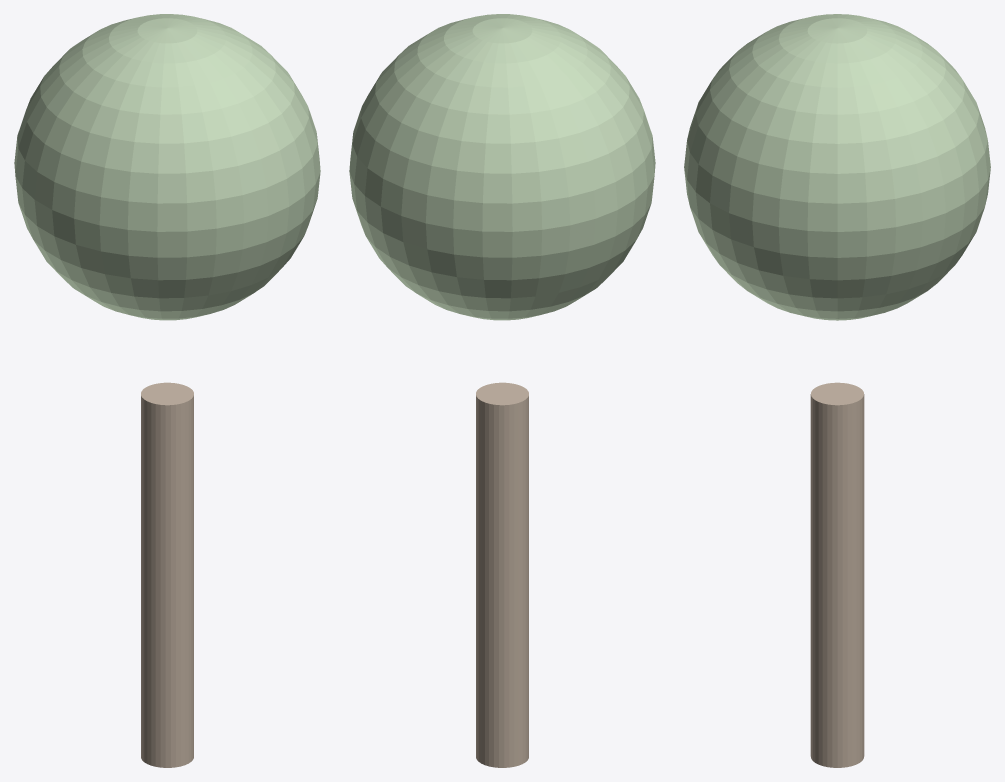
File: MOD_TREE_EUCALYPTUS_STANDARD_001_LOD_MAP.glb
3 renders of one model, left to right at view 1: azimuth 30°, elevation 25°; view 2: azimuth 150°, elevation 25°; view 3: azimuth 270°, elevation 25°, orthographic.
Visible parts, largest first — view 1: MOD_TREE_EUCALYPTUS_STANDARD_001_MAP_CANOPY, MOD_TREE_EUCALYPTUS_STANDARD_001_MAP_TRUNK; view 2: MOD_TREE_EUCALYPTUS_STANDARD_001_MAP_CANOPY, MOD_TREE_EUCALYPTUS_STANDARD_001_MAP_TRUNK; view 3: MOD_TREE_EUCALYPTUS_STANDARD_001_MAP_CANOPY, MOD_TREE_EUCALYPTUS_STANDARD_001_MAP_TRUNK.
Part boxes in pixels (x1=…): MOD_TREE_EUCALYPTUS_STANDARD_001_MAP_CANOPY: x1=14, y1=14, x2=320, y2=320; MOD_TREE_EUCALYPTUS_STANDARD_001_MAP_TRUNK: x1=141, y1=382, x2=193, y2=767; MOD_TREE_EUCALYPTUS_STANDARD_001_MAP_CANOPY: x1=349, y1=14, x2=655, y2=320; MOD_TREE_EUCALYPTUS_STANDARD_001_MAP_TRUNK: x1=476, y1=382, x2=528, y2=767; MOD_TREE_EUCALYPTUS_STANDARD_001_MAP_CANOPY: x1=684, y1=14, x2=990, y2=320; MOD_TREE_EUCALYPTUS_STANDARD_001_MAP_TRUNK: x1=810, y1=382, x2=864, y2=767.
Size of the model in its own units: 0.92 by 2.41 by 0.92.
